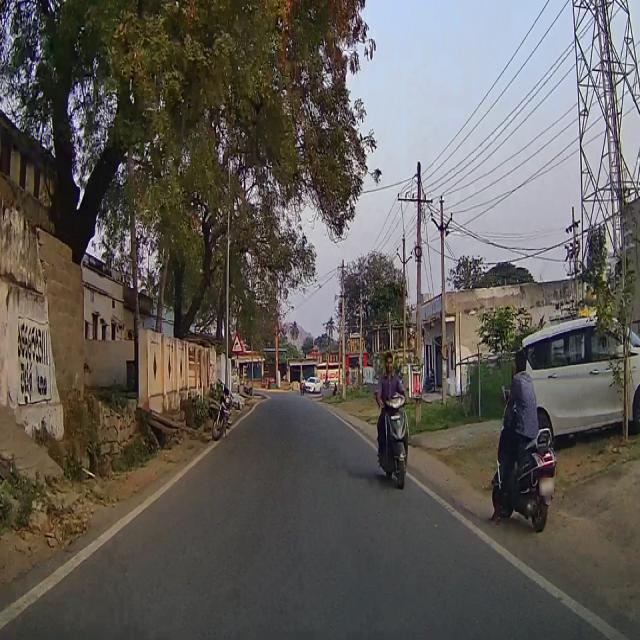right-hand-curve: (232, 333, 244, 355)
